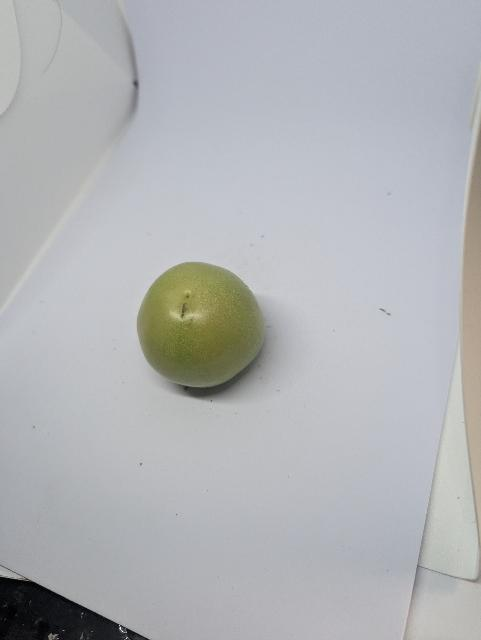green: (134, 259, 268, 392)
